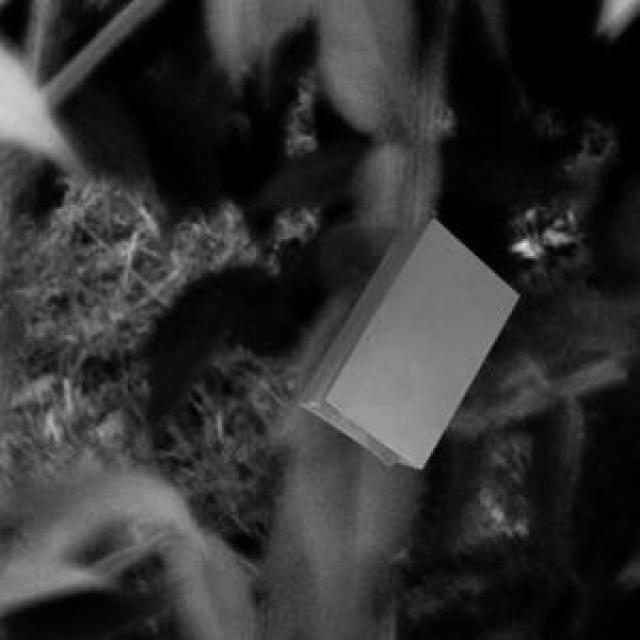paper: (294, 216, 514, 465)
